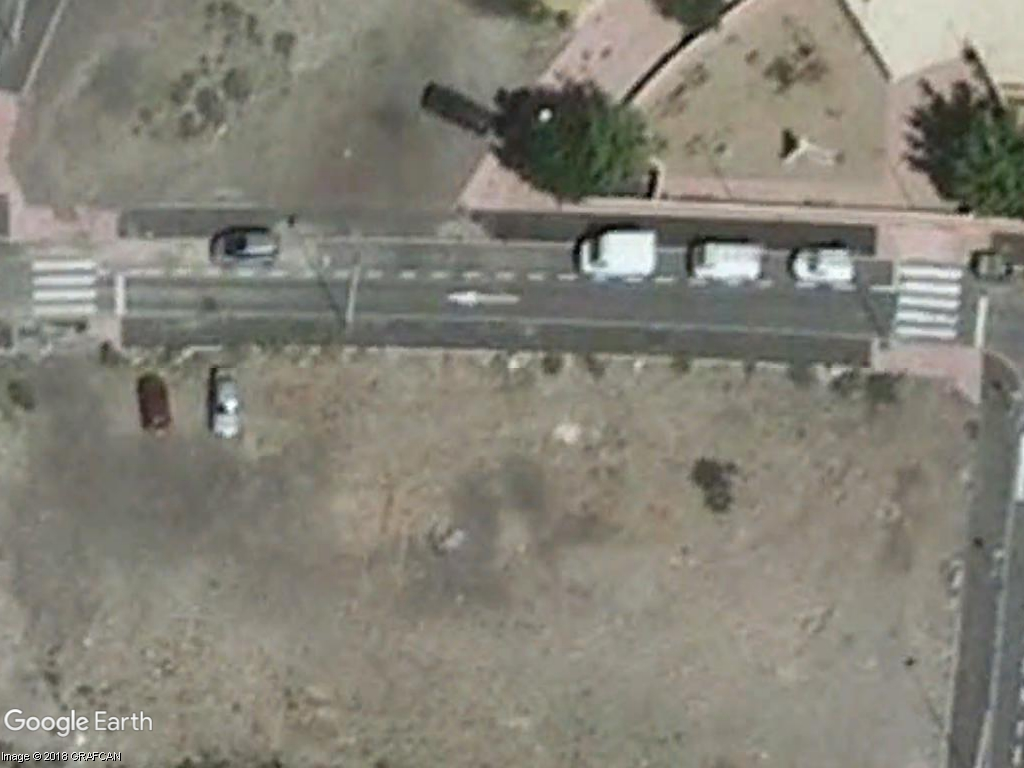car: (780, 240, 861, 289), (206, 359, 248, 446), (205, 224, 284, 270)
truck: (570, 223, 661, 285), (687, 235, 768, 283)
